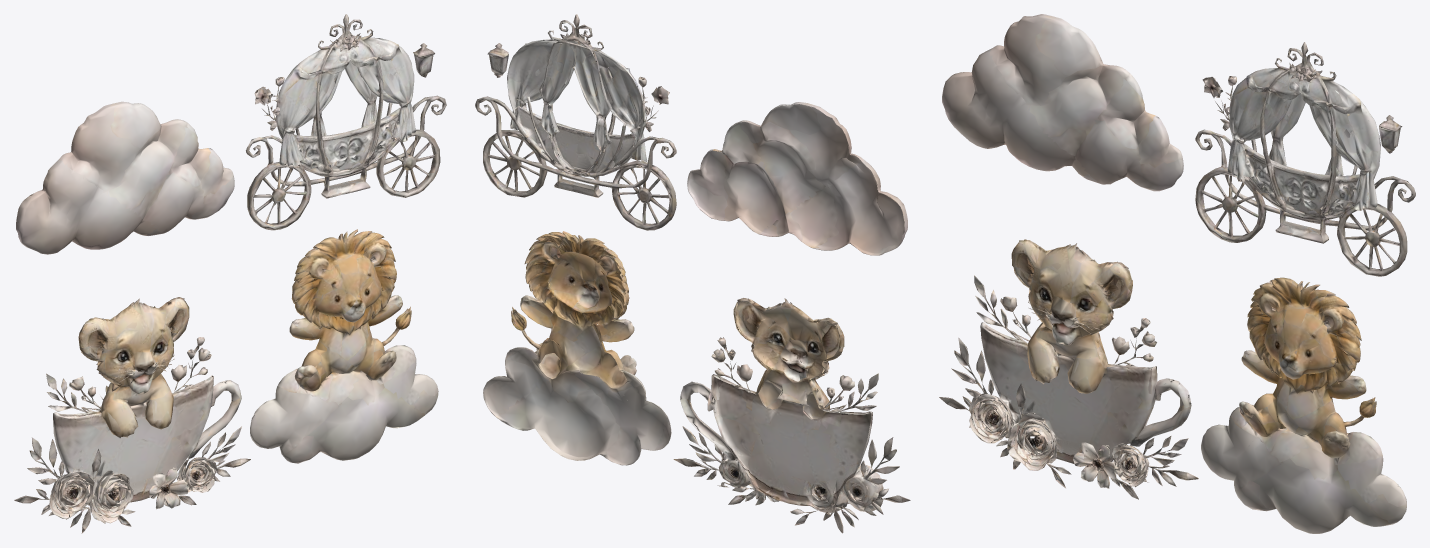
3 renders of one model, left to right at view 1: azimuth 30°, elevation 25°; view 2: azimuth 150°, elevation 25°; view 3: azimuth 330°, elevation 25°, orthographic. The views are drawn at different scales.
Parts seen in each view (by area): view 1: Mesh 1, Mesh 4, Mesh 2, Mesh 3; view 2: Mesh 1, Mesh 4, Mesh 2, Mesh 3; view 3: Mesh 1, Mesh 4, Mesh 2, Mesh 3.
Part boxes in pixels (box(x1,y1,x2,y2)): Mesh 1: box(14, 297, 250, 533); Mesh 4: box(250, 229, 438, 463); Mesh 2: box(16, 101, 234, 254); Mesh 3: box(246, 14, 446, 230); Mesh 1: box(673, 298, 910, 533); Mesh 4: box(483, 231, 671, 465); Mesh 2: box(687, 102, 907, 255); Mesh 3: box(475, 14, 676, 230); Mesh 1: box(939, 239, 1198, 499); Mesh 4: box(1201, 277, 1406, 533); Mesh 2: box(942, 14, 1183, 191); Mesh 3: box(1195, 42, 1415, 276).
Bounding box in the file's own units: 1.87 × 1.9 × 0.1355.
4 materials, 4 textured.
